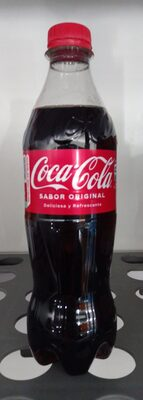Original Taste: (7, 20, 136, 380)
